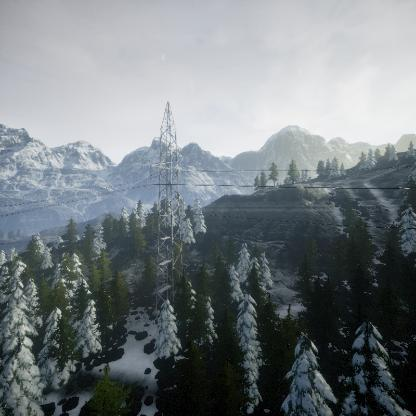tower: (145, 99, 189, 306)
